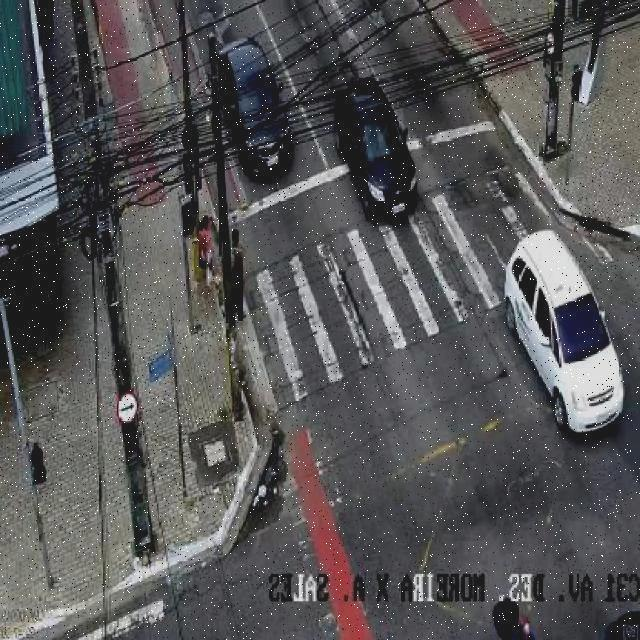Car: (500, 228, 628, 435), (328, 75, 422, 222), (212, 33, 295, 178)
